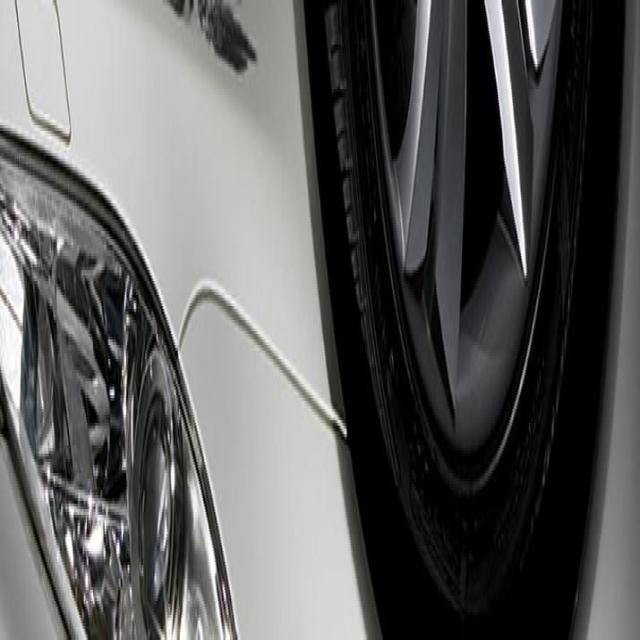scratch: (135, 0, 264, 103)
